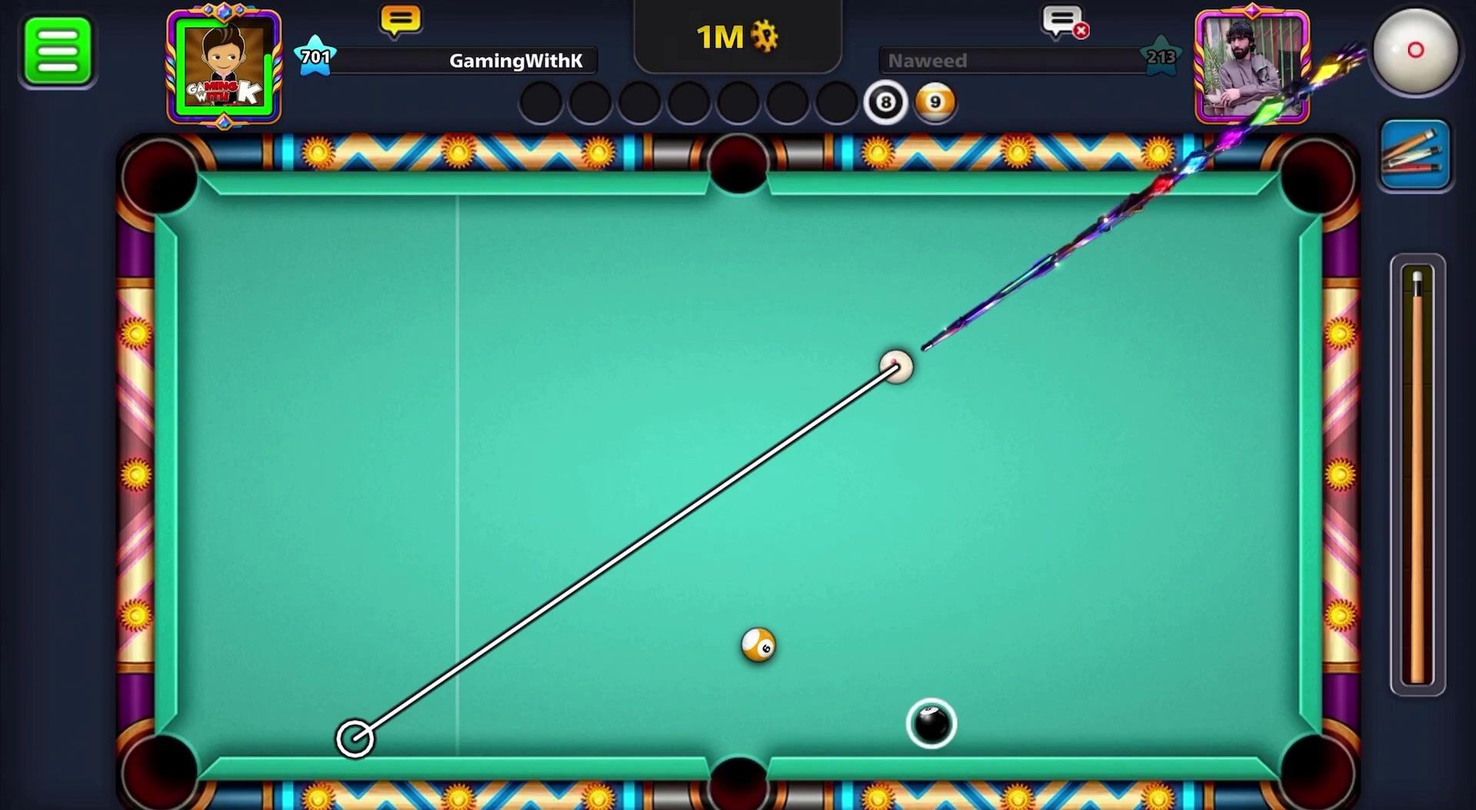Ball: (901, 695, 958, 749), (735, 621, 781, 669)
Force: (1384, 254, 1453, 702)
Guideline: (335, 350, 914, 759)
Hole: (1263, 128, 1368, 232), (108, 130, 214, 231), (1263, 717, 1365, 809), (691, 128, 788, 209)
Play_Area: (177, 194, 1301, 759)
Spin: (1354, 0, 1474, 112)
White: (870, 340, 918, 388)
